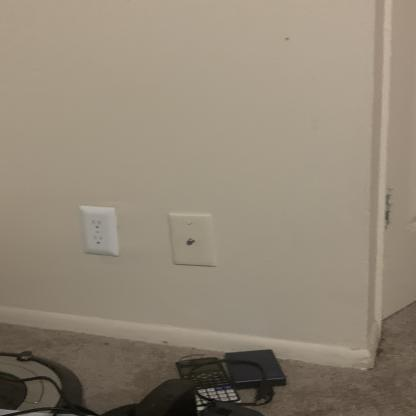OUTLET: (80, 206, 118, 255)
